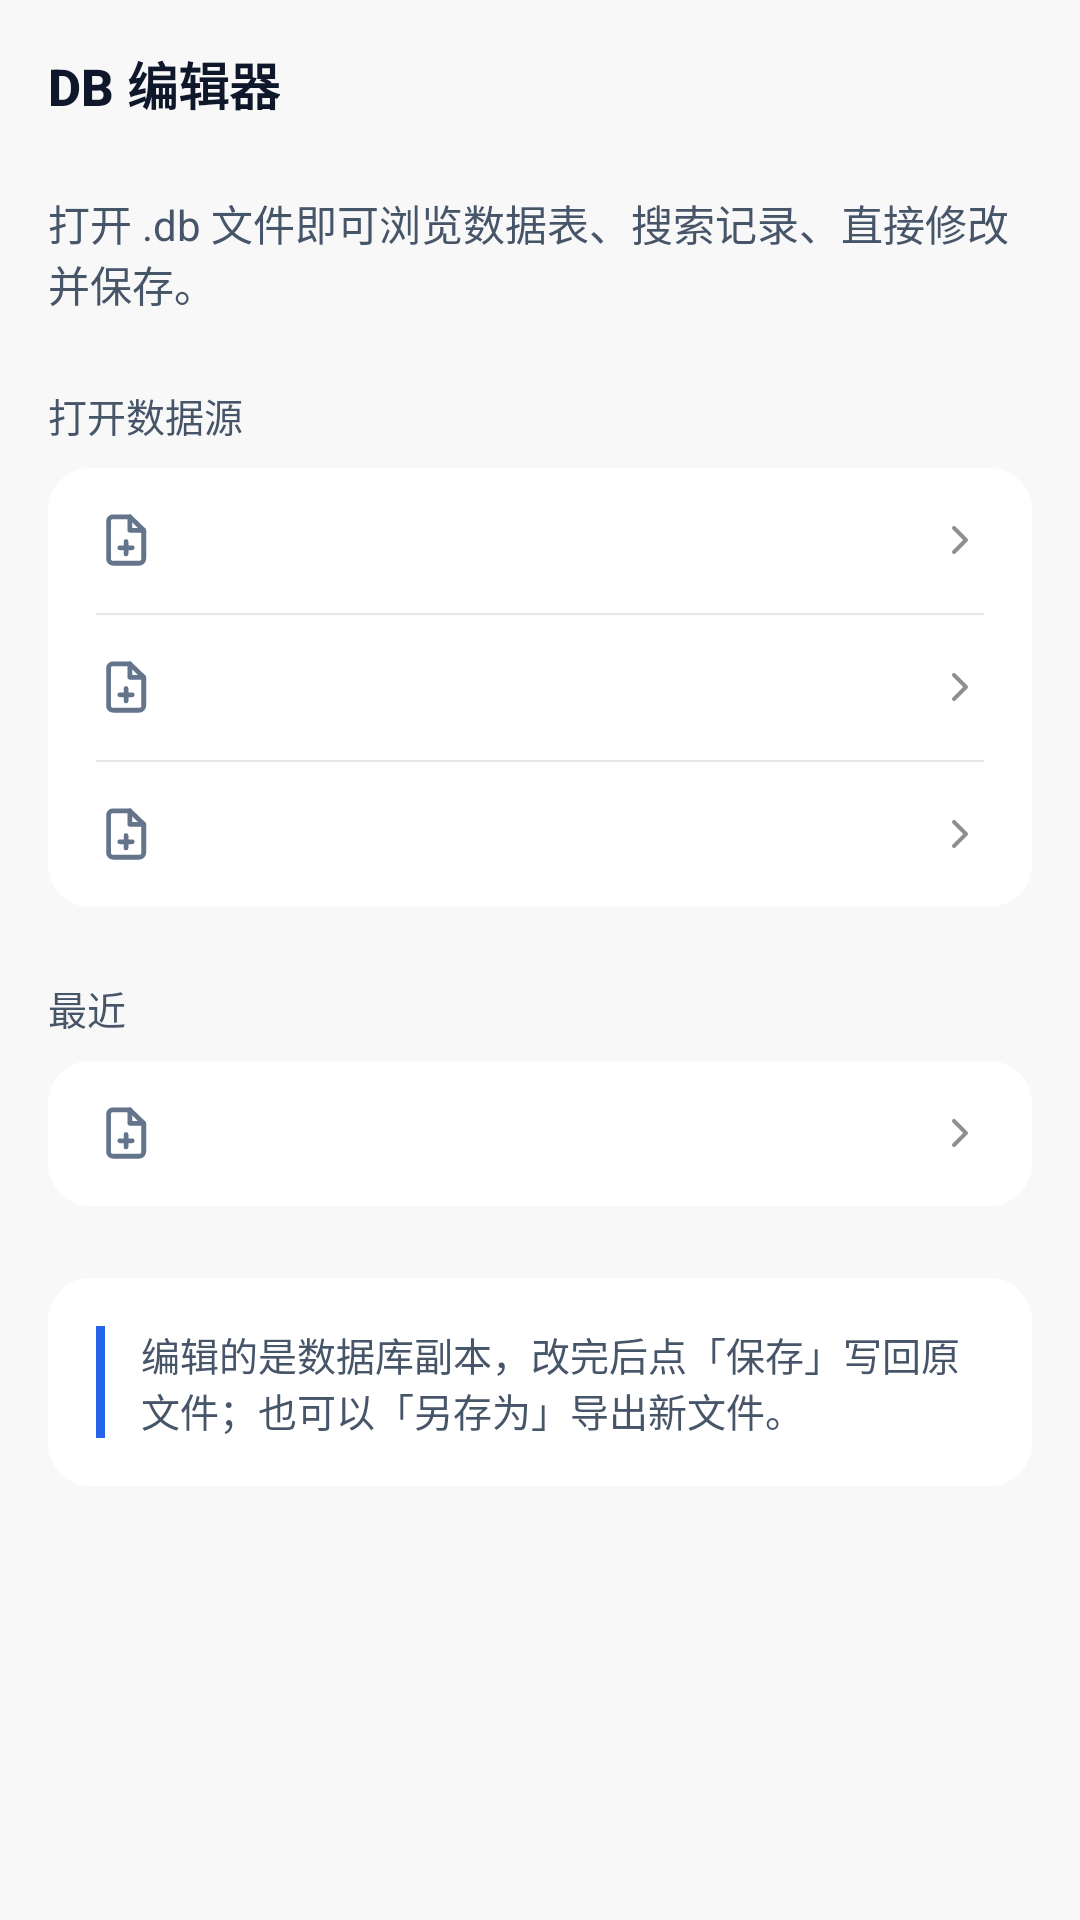

Where to tap for icons on this 1080×1920 app screen, as point (x, y):
chevron right: point (960, 540), point (960, 687), point (960, 834), point (960, 1133)
file plus: point (126, 540), point (126, 687), point (126, 834), point (126, 1133)
